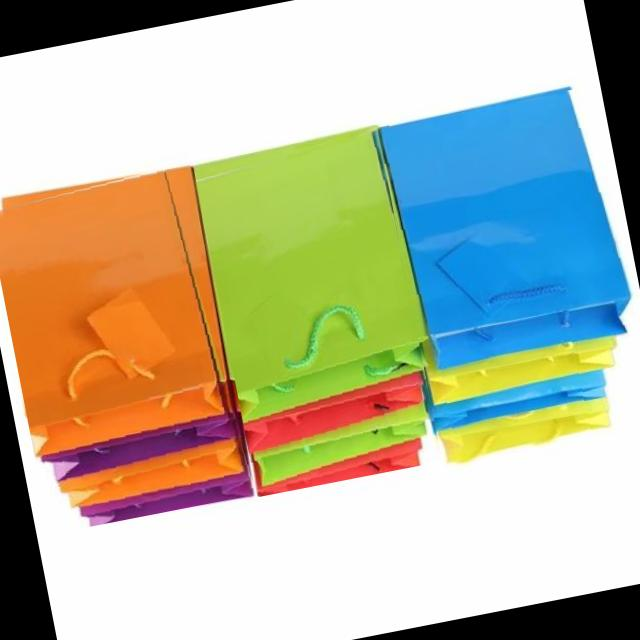PaperCardboard: (376, 90, 633, 460), (0, 174, 254, 526), (195, 130, 429, 496)
